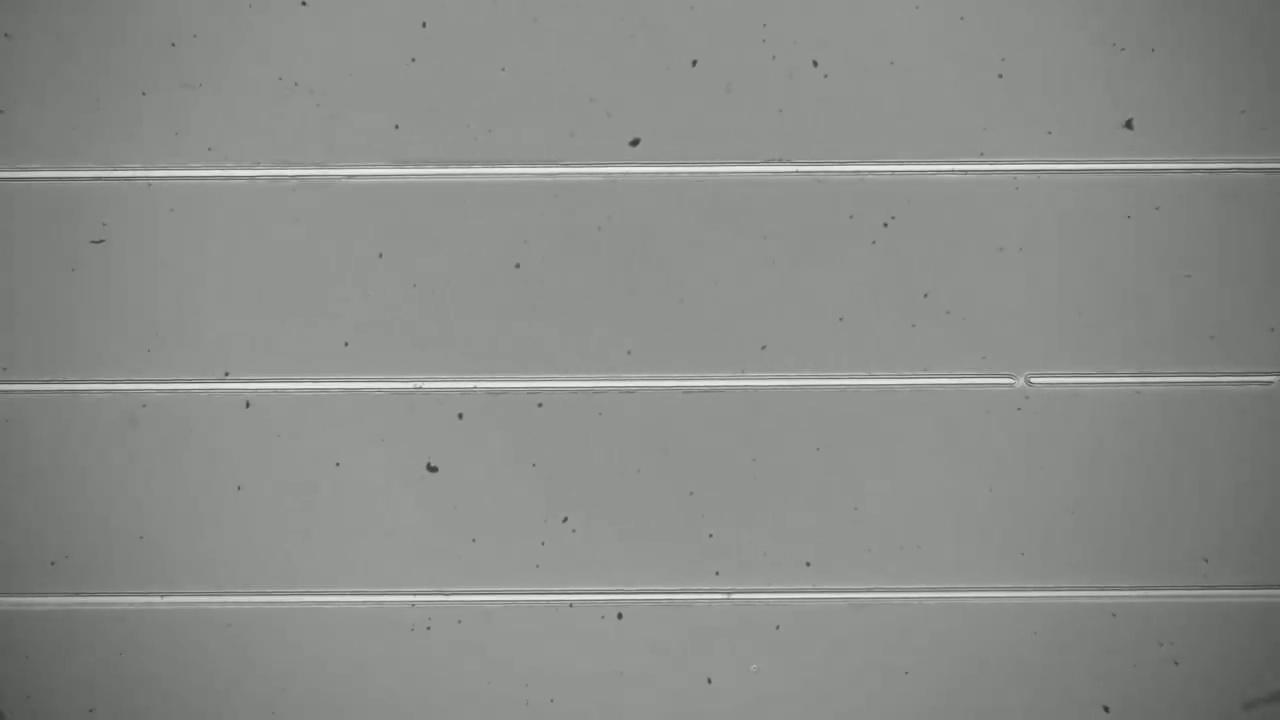open: (994, 360, 1041, 404)
